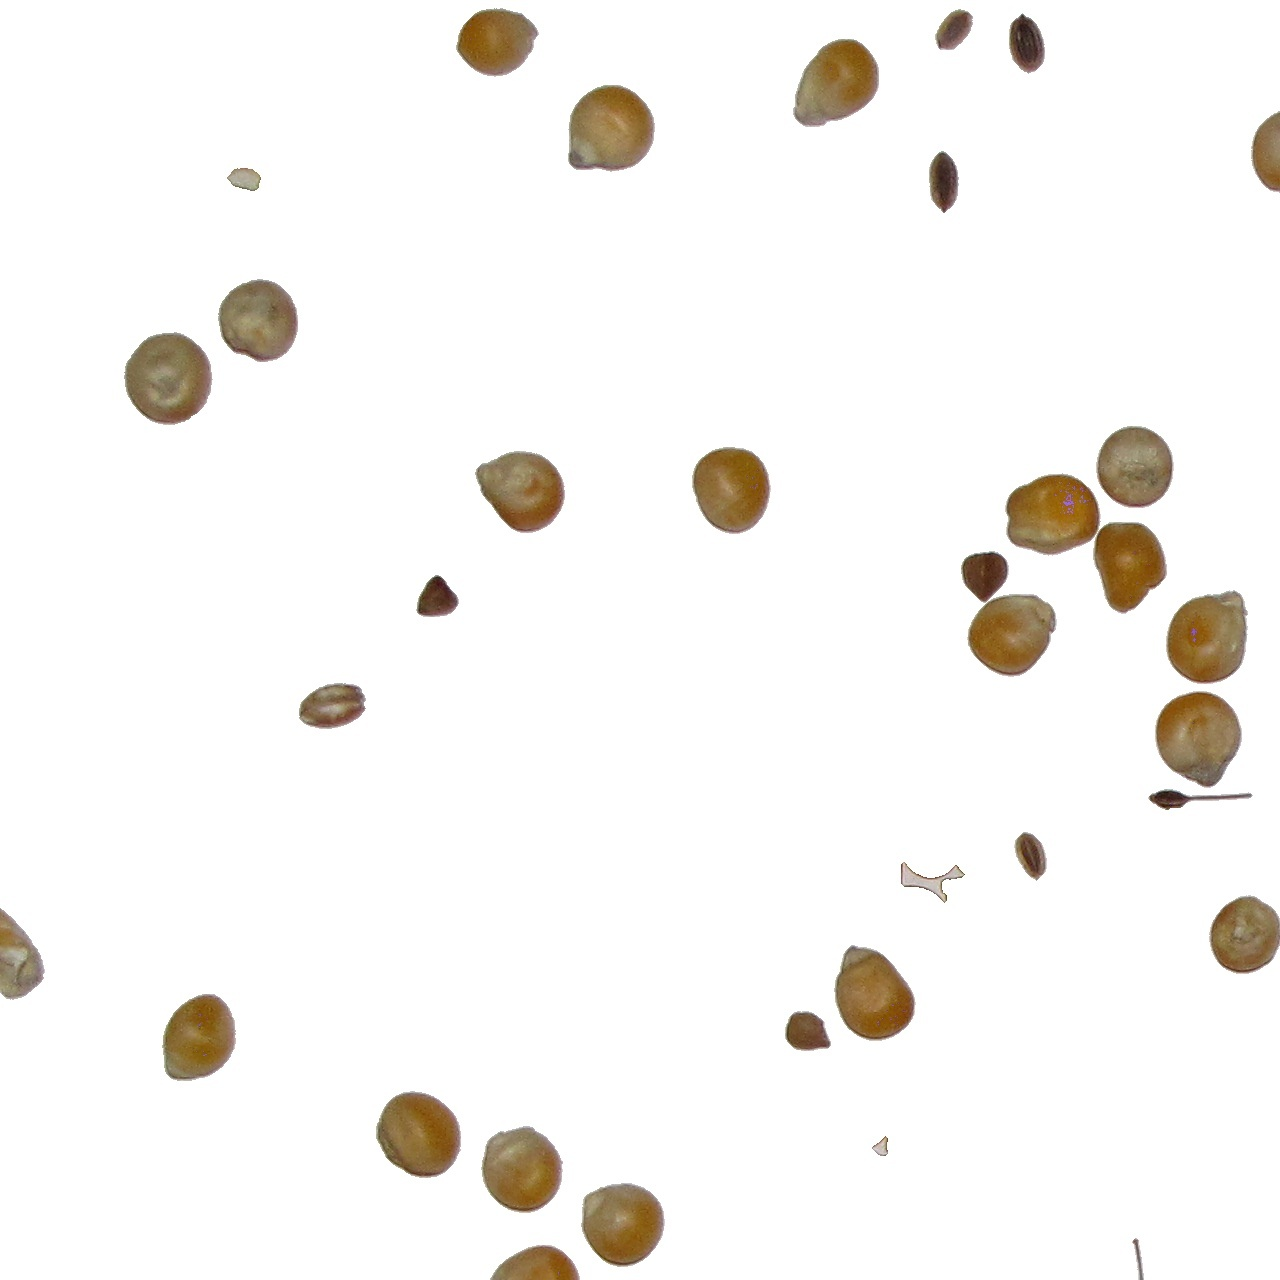buckwheat: (960, 550, 1010, 604), (1008, 12, 1046, 75), (928, 150, 960, 215), (415, 574, 459, 618), (934, 5, 974, 48), (1131, 1237, 1148, 1280), (871, 1135, 888, 1157)
dill: (894, 862, 960, 904), (1013, 831, 1048, 881)
mais: (123, 331, 215, 425), (1155, 690, 1242, 789), (1005, 472, 1102, 557), (833, 944, 917, 1042), (1165, 588, 1250, 685), (567, 84, 656, 173), (792, 38, 880, 128), (474, 450, 566, 535), (966, 593, 1058, 678), (375, 1090, 462, 1179), (580, 1182, 666, 1268), (481, 1125, 564, 1214), (692, 445, 772, 535), (1092, 520, 1167, 615), (217, 278, 299, 363), (161, 993, 237, 1082), (1095, 425, 1175, 509), (455, 7, 540, 79), (1208, 894, 1280, 975), (1, 910, 47, 998), (481, 1244, 583, 1280), (1250, 108, 1280, 195)
other: (306, 682, 367, 731), (1148, 788, 1254, 811), (784, 1010, 832, 1051), (226, 166, 263, 192)
